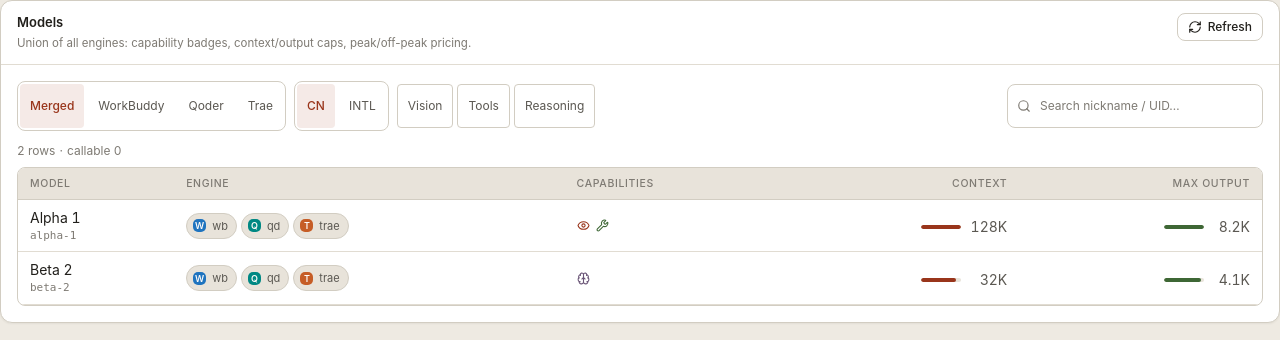
it: ModelsView › 搜索过滤生效
Expected: the text "Alpha 1" is shown, left=30, top=209, right=81, bottom=226
Type "beta" into the field.
click(1135, 106); type("beta")  # box left=1007, top=84, right=1263, bottom=128
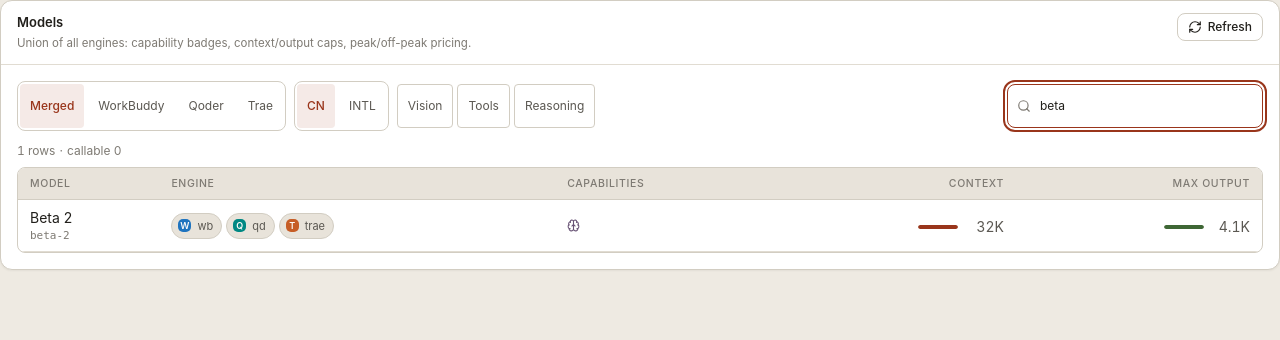
Expected: the text "Beta 2" is shown, left=30, top=209, right=73, bottom=226
Expected: the text "Alpha 1" is gone
